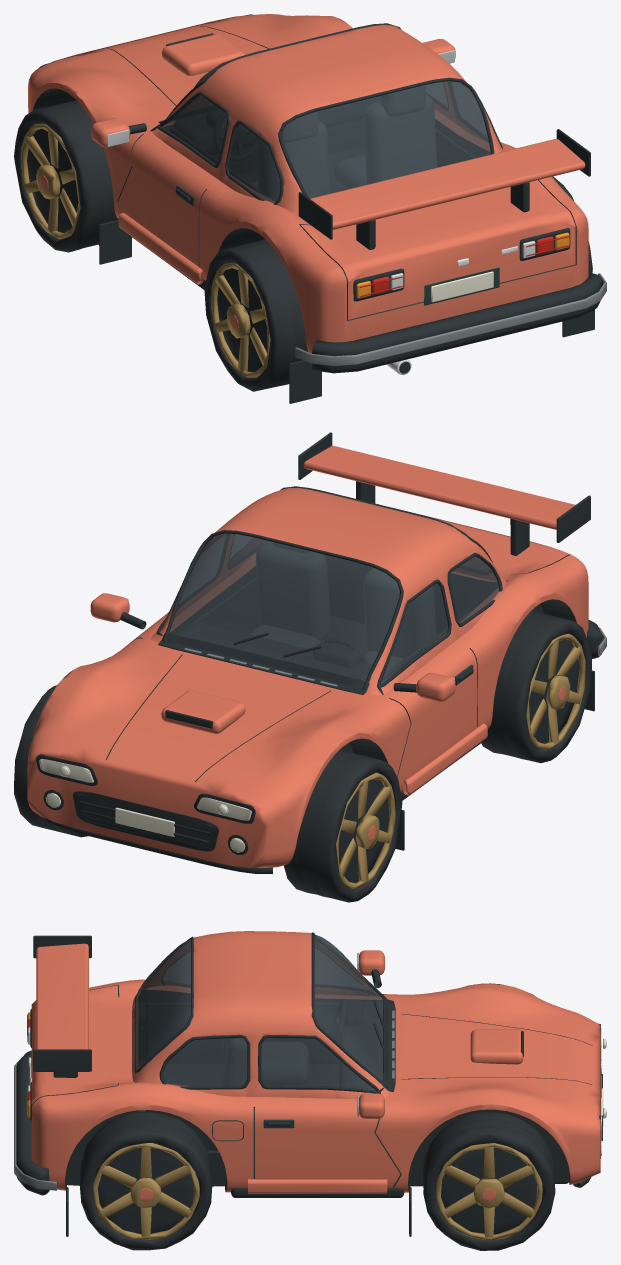
File: fubuki_lod2.fbx
The picture shows the model from 3 angles, top to bottom: view 1: azimuth 30°, elevation 25°; view 2: azimuth 150°, elevation 25°; view 3: azimuth 270°, elevation 25°; orthographic projection. The views are drawn at different scales.
Parts seen in each view (by area): view 1: Body, Wheel_RL_Mesh, Wheel_FL_Mesh; view 2: Body, Wheel_FL_Mesh, Wheel_RL_Mesh, Wheel_FR_Mesh; view 3: Body, Wheel_RR_Mesh, Wheel_FR_Mesh, Wheel_RL_Mesh.
Part boxes in pixels (<box>): Body: <box>28,14,606,403</box>; Wheel_RL_Mesh: <box>204,239,307,391</box>; Wheel_FL_Mesh: <box>14,100,118,252</box>; Body: <box>27,432,606,873</box>; Wheel_FL_Mesh: <box>284,750,402,902</box>; Wheel_RL_Mesh: <box>481,610,591,763</box>; Wheel_FR_Mesh: <box>14,685,88,837</box>; Body: <box>14,931,606,1236</box>; Wheel_RR_Mesh: <box>79,1112,212,1250</box>; Wheel_FR_Mesh: <box>422,1111,555,1250</box>; Wheel_RL_Mesh: <box>138,1003,146,1060</box>.
Size of the model in its own units: 239 by 156 by 384.
